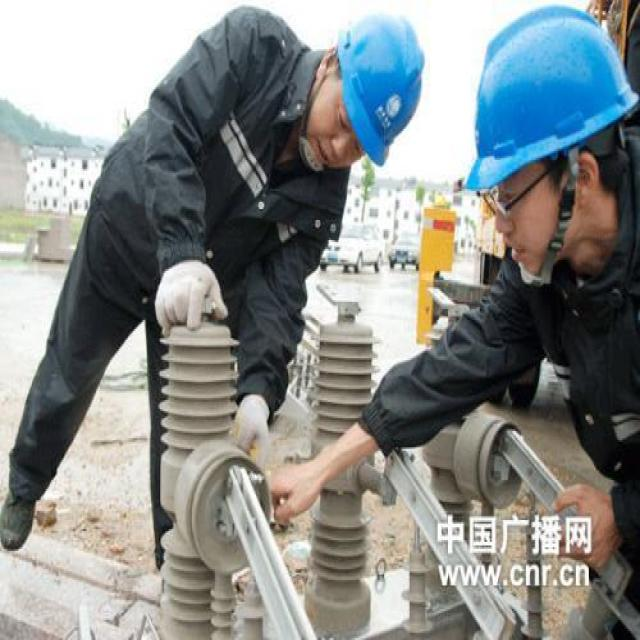boots: (0, 490, 36, 550)
gloves: (154, 259, 229, 337), (229, 394, 271, 470)
hard-hat: (463, 5, 639, 191), (335, 12, 425, 167)
person: (1, 5, 426, 571), (268, 5, 640, 639)
ppe-suit: (0, 4, 352, 567)
